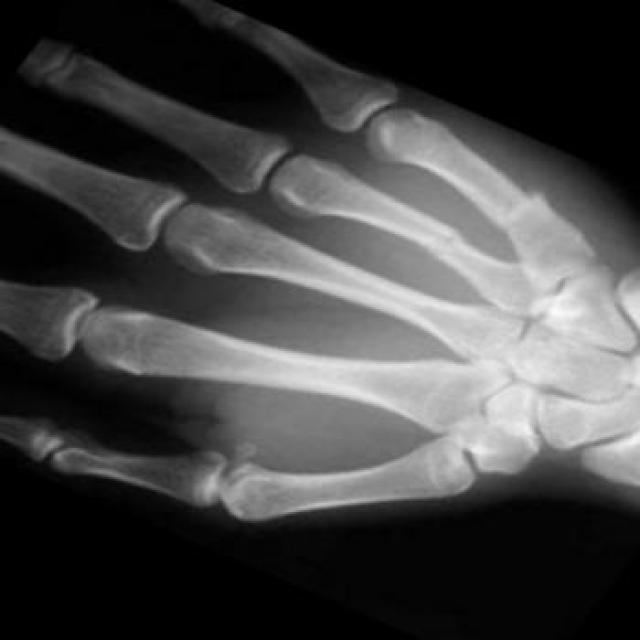Fracture: (484, 176, 566, 226), (417, 220, 472, 264)
